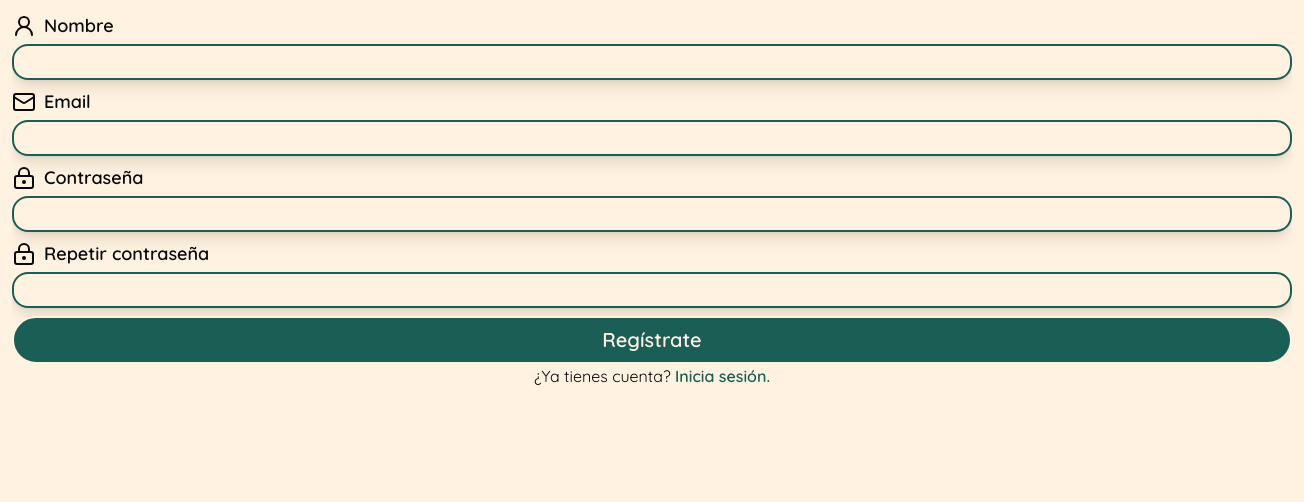
Test: Given the RegisterForm component › When it renders › And the user submits an empty form › Then it should show validation error messages
Click the button "Regístrate" at (652, 340), box left=12, top=316, right=1292, bottom=364
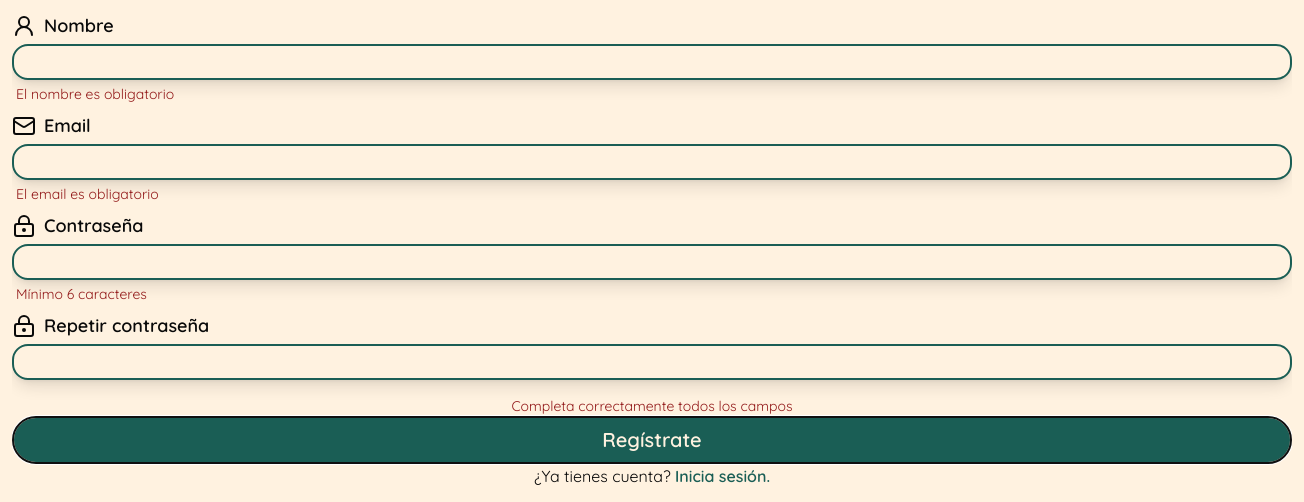
Result: the text "Completa correctamente todos los campos" is shown at left=512, top=397, right=792, bottom=415
Result: the text "El nombre es obligatorio" is shown at left=16, top=85, right=174, bottom=103
Result: the text "El email es obligatorio" is shown at left=16, top=185, right=159, bottom=203
